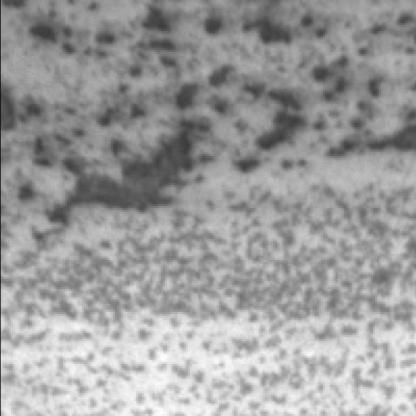patches: (50, 125, 202, 227)
pitted_surface: (6, 185, 412, 412), (27, 5, 416, 208)
